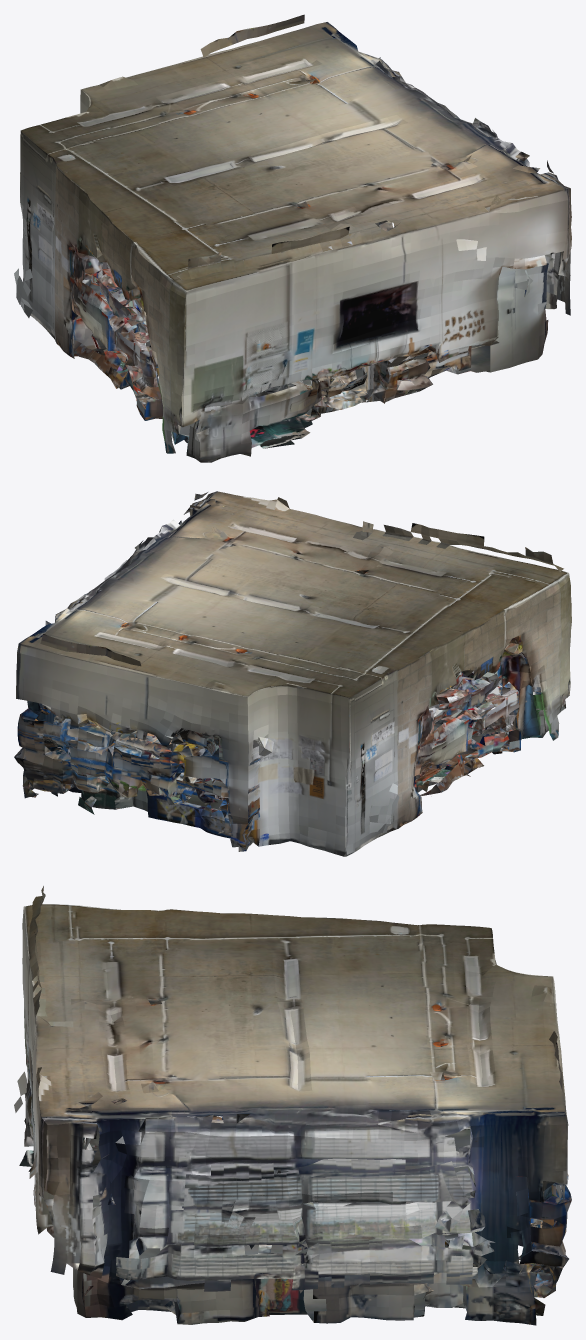
The picture shows the model from 3 angles, top to bottom: view 1: azimuth 30°, elevation 25°; view 2: azimuth 150°, elevation 25°; view 3: azimuth 270°, elevation 25°; orthographic projection. The views are drawn at different scales.
Visible parts, largest first — view 1: M301-IM; view 2: M301-IM; view 3: M301-IM.
Boxes of the visible parts, <box> form: M301-IM: <box>14,14,571,462</box>; M301-IM: <box>14,491,571,856</box>; M301-IM: <box>14,886,571,1325</box>.
Bounding box in the file's own units: 777 × 366 × 779.
1 material, 1 textured.
